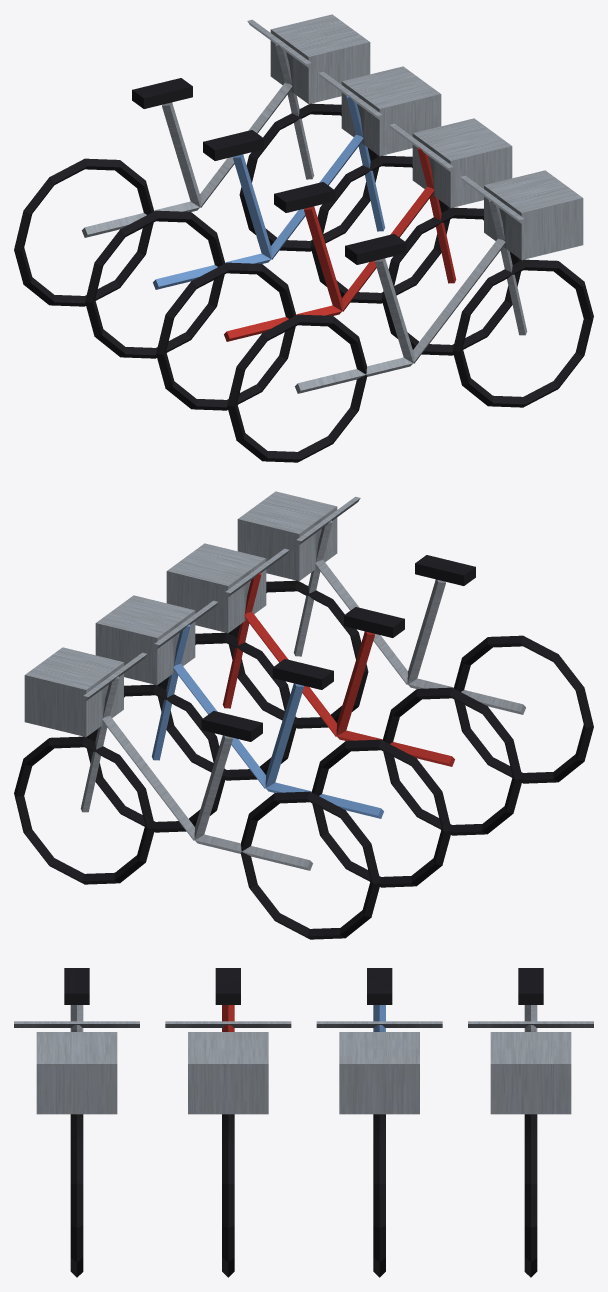
The model's file is cyklar_tex.glb.
3 views of the same model, one above another, from view 1: azimuth 30°, elevation 25°; view 2: azimuth 150°, elevation 25°; view 3: azimuth 270°, elevation 25° (orthographic). The views are drawn at different scales.
Parts seen in each view (by area): view 1: cyklar; view 2: cyklar; view 3: cyklar.
Part boxes in pixels (bbox=[...]): cyklar: bbox=[14, 14, 593, 462]; cyklar: bbox=[14, 491, 593, 939]; cyklar: bbox=[14, 968, 593, 1277].
Bounding box in the file's own units: 1.79 × 1.01 × 2.3.
Materials: 4 (4 with a texture image).
